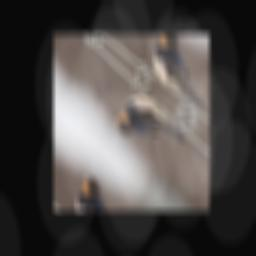Swallow: (109, 76, 193, 176)
